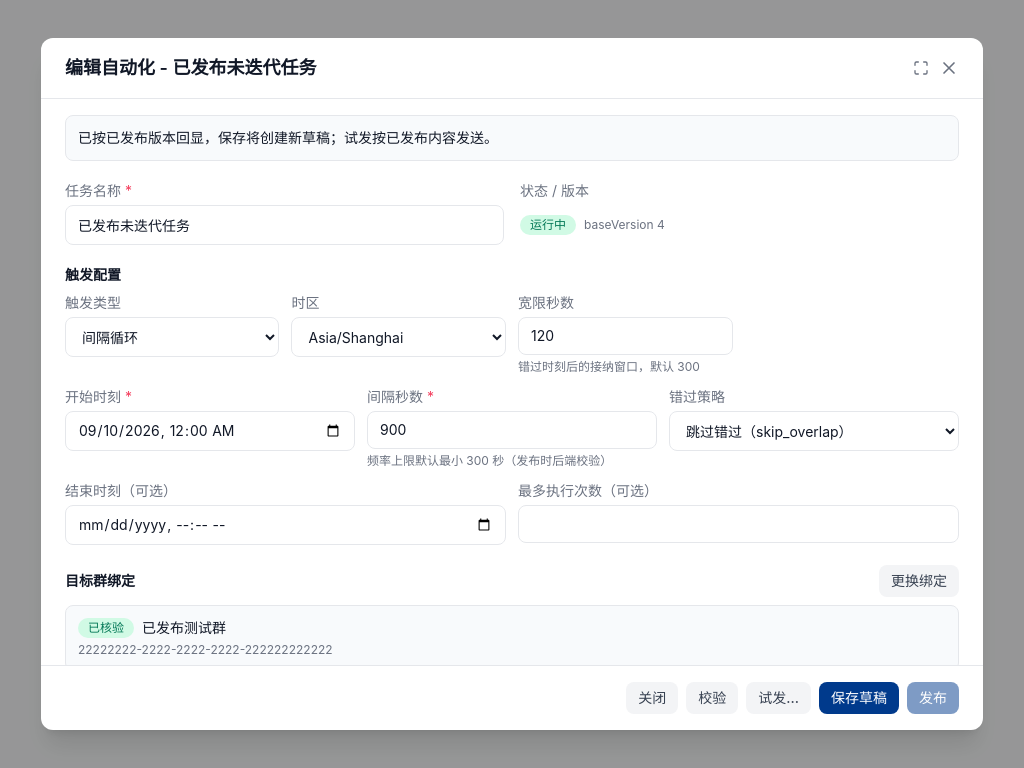
AutomationEditor 编辑/409/脏检测 › 复审 P1-1 发布后（无草稿）：按 active_* 回显内容/触发/群绑定，试发可用
The width and height of the screenshot is (1024, 768).
Click the button "试发..." at {"x": 779, "y": 698}, box x1=746 y1=682 x2=811 y2=714
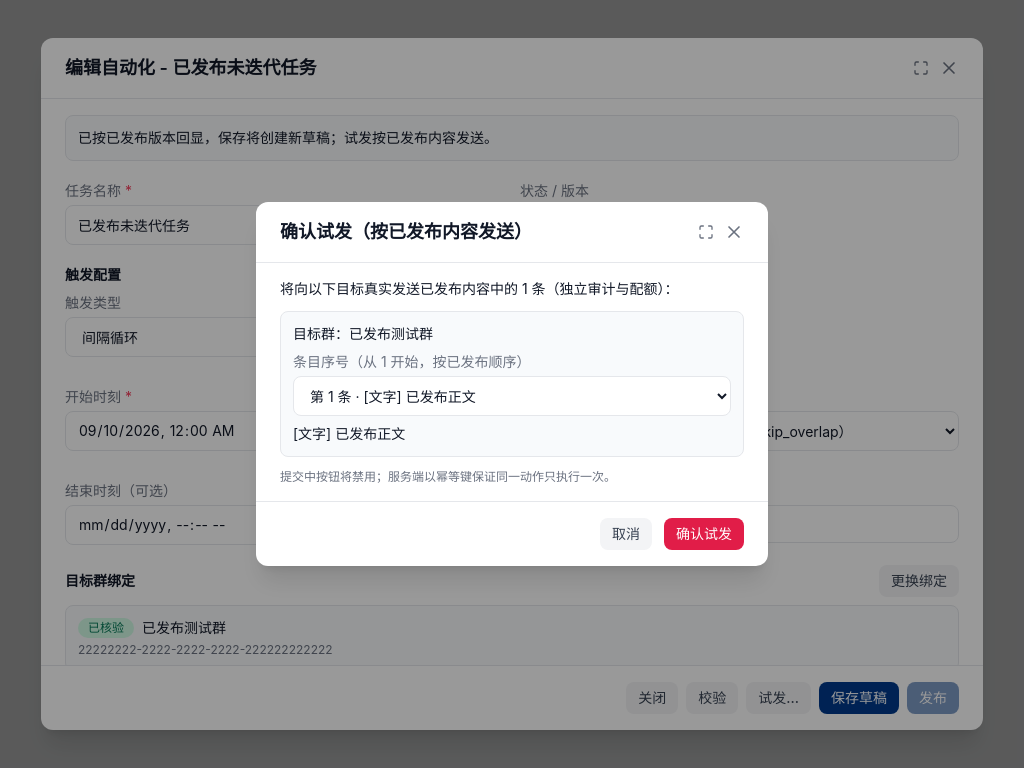
Expected: the text "确认试发" is shown, x1=280 y1=221 x2=532 y2=242
Expected: the text with test id "testsend-preview" shows "已发布正文", x1=293 y1=425 x2=405 y2=442
